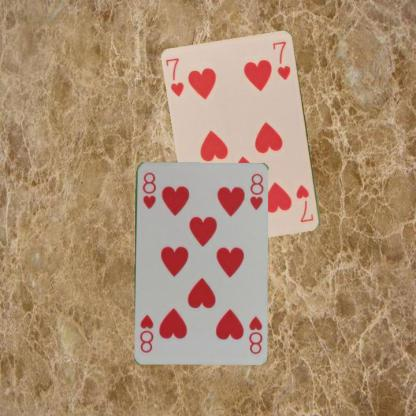7h: (164, 55, 186, 98), (293, 183, 315, 224)
8h: (245, 313, 264, 355), (139, 169, 157, 210)
